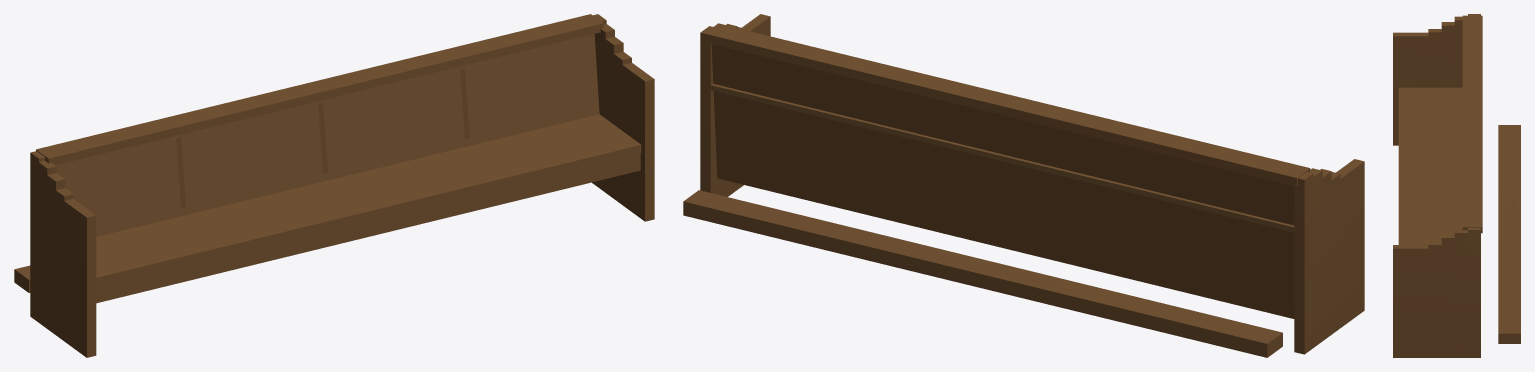
The model's file is seat.pew.oak.glb.
3 views of the same model, side by side, from view 1: azimuth 30°, elevation 25°; view 2: azimuth 150°, elevation 25°; view 3: azimuth 270°, elevation 25° (orthographic). The views are drawn at different scales.
Visible parts, largest first — view 1: seat_pew_oak; view 2: seat_pew_oak; view 3: seat_pew_oak.
Boxes of the visible parts, x1,y1,x2,y2 form: seat_pew_oak: (14,14,654,357); seat_pew_oak: (683,14,1364,357); seat_pew_oak: (1393,14,1520,357).
Size of what is drawn, in the model's own units: 3.6 by 1 by 0.9.
